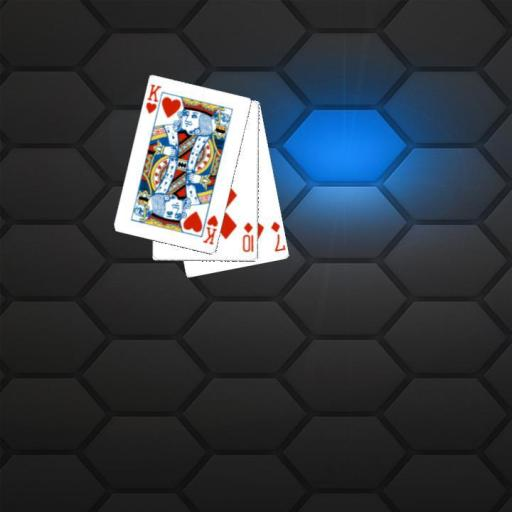10D: (240, 220, 255, 254)
7D: (268, 218, 286, 253)
KH: (200, 212, 220, 246), (143, 81, 163, 115)
